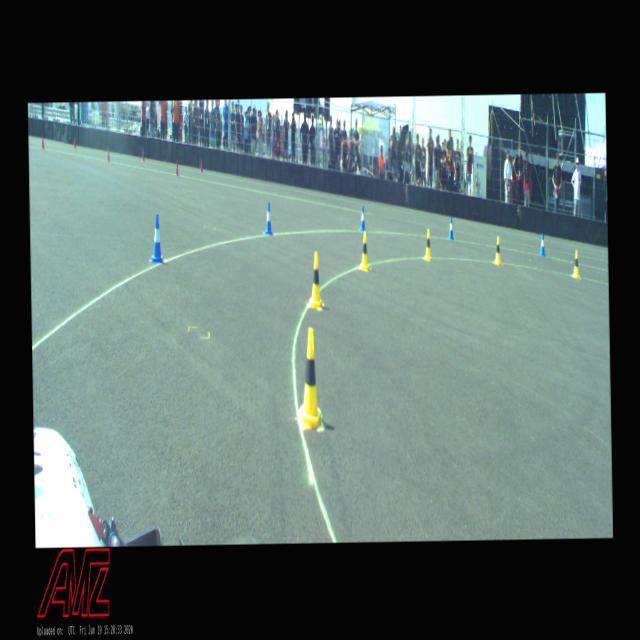blue_cone: (150, 214, 163, 262), (264, 202, 272, 234), (358, 205, 364, 230), (538, 232, 544, 255), (448, 216, 453, 238)
unknown_cone: (175, 160, 179, 176), (106, 146, 110, 162), (40, 134, 44, 150), (72, 136, 76, 149), (141, 148, 144, 161), (200, 158, 202, 172)
yellow_cone: (297, 328, 321, 426), (309, 252, 322, 306), (360, 231, 369, 269), (424, 229, 431, 259), (572, 250, 579, 277), (494, 236, 500, 264)
